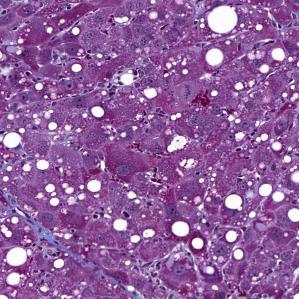fibrosis: (18, 213, 61, 246)
